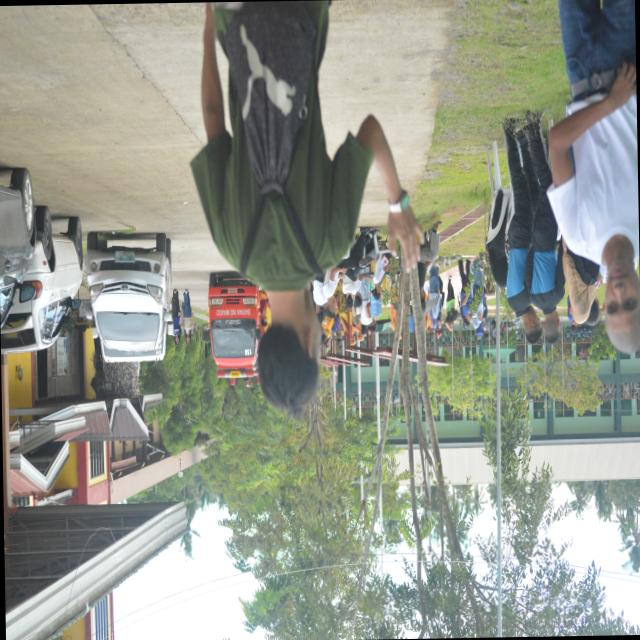person: (283, 1, 421, 270), (547, 0, 639, 351), (523, 111, 564, 343), (502, 118, 541, 343), (322, 226, 377, 317), (561, 240, 599, 322), (417, 220, 441, 311), (485, 216, 507, 286), (457, 258, 470, 326), (444, 275, 456, 330), (181, 289, 193, 343), (171, 288, 181, 344), (258, 289, 268, 326), (567, 295, 575, 332)
